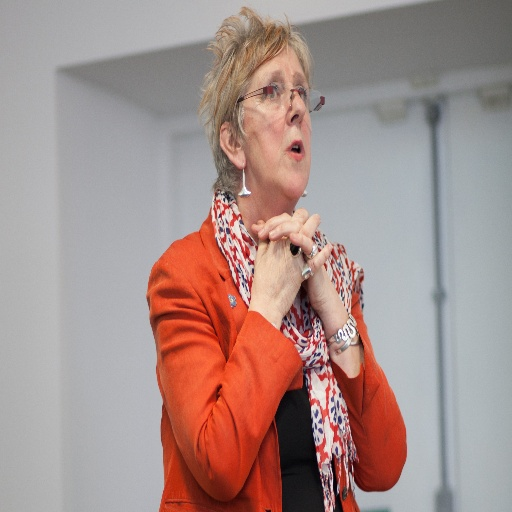hand: (250, 210, 332, 310)
